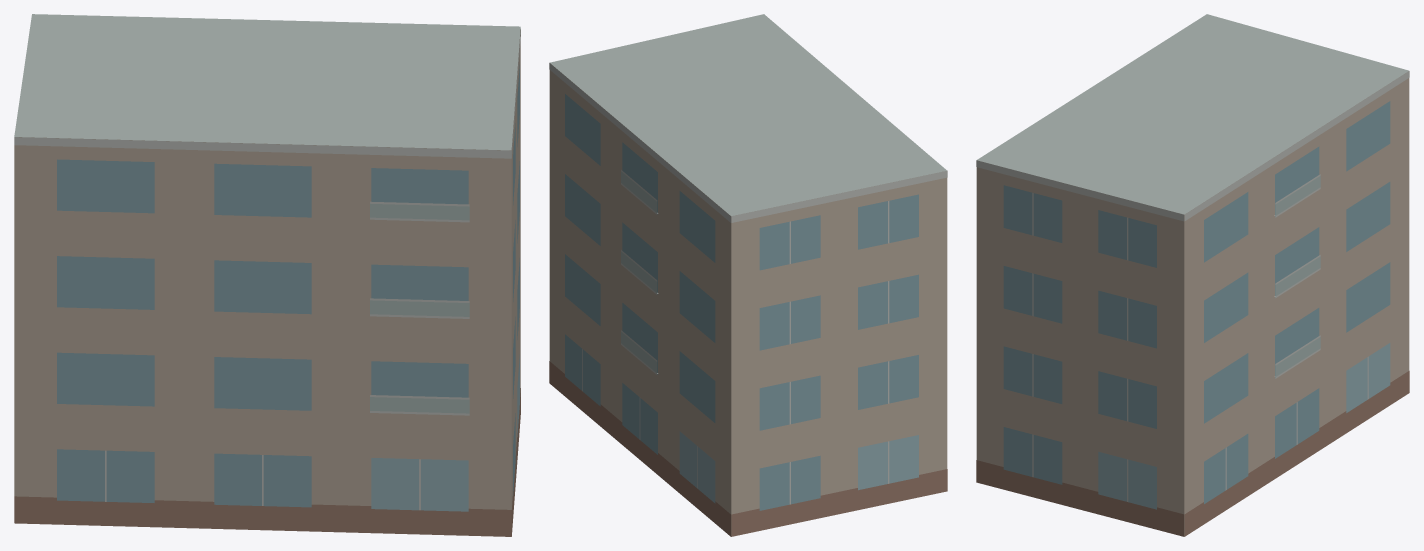
Rendered from survey-upis-32528530.glb.
3 renders of one model, left to right at view 1: azimuth 30°, elevation 25°; view 2: azimuth 150°, elevation 25°; view 3: azimuth 270°, elevation 25°, orthographic. The views are drawn at different scales.
Parts seen in each view (by area): view 1: survey-upis-32528530.tmp; view 2: survey-upis-32528530.tmp; view 3: survey-upis-32528530.tmp.
Boxes of the visible parts, bbox=[...] form: survey-upis-32528530.tmp: bbox=[14, 14, 520, 536]; survey-upis-32528530.tmp: bbox=[549, 14, 947, 536]; survey-upis-32528530.tmp: bbox=[976, 14, 1409, 536].
Size of the model in its own units: 15.23 by 11.4 by 13.89.
